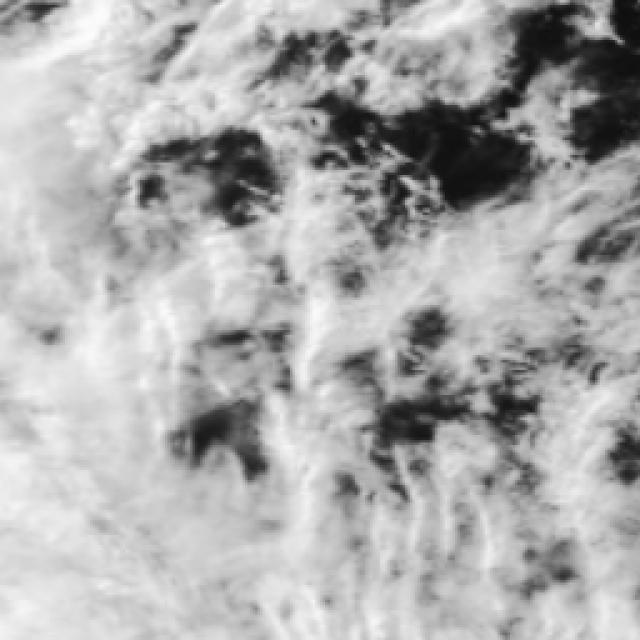CB: (172, 485, 420, 640), (0, 281, 158, 499), (0, 452, 178, 640), (0, 28, 130, 270)
